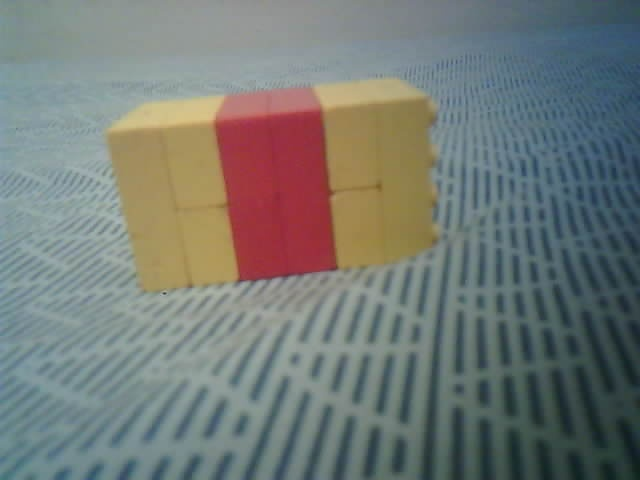lego: (101, 75, 443, 296)
